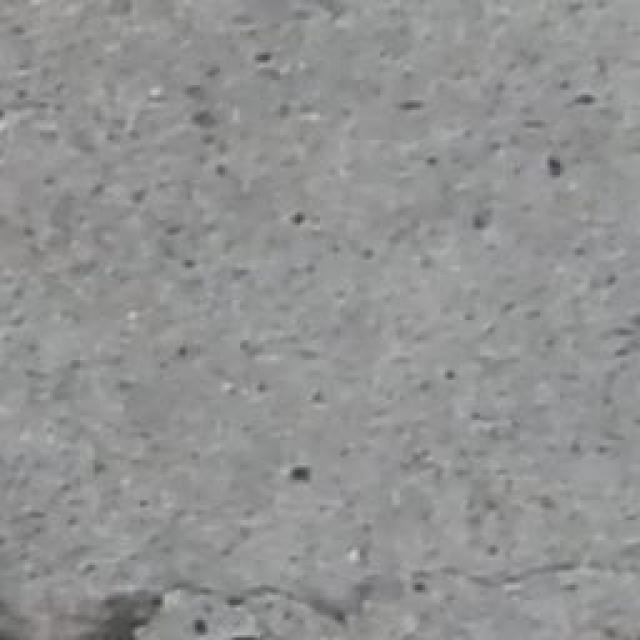concrete-crack: (79, 554, 640, 640)
